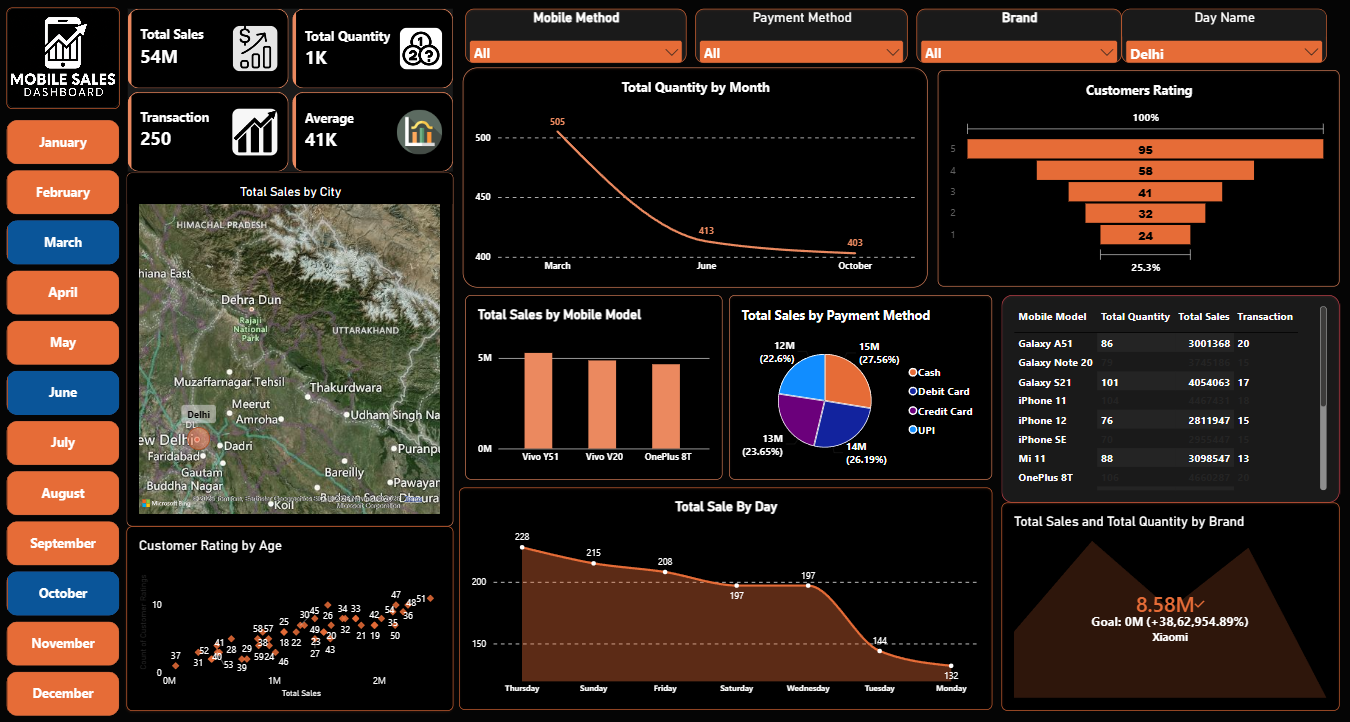

The page's visual inventory and layout, read from the dashboard file:
{"tool":"powerbi","page":{"name":"Page 1","canvas":[1920,1080],"ordinal":0},"visuals":[{"type":"image","box":[10.9,10.9,153.8,137.5],"z":0},{"type":"advancedSlicerVisual","fields":{"Values":["Sheet1.Date.Variation.Date Hierarchy.Month"]},"box":[10.9,162.9,153.3,815],"z":1000},{"type":"cardVisual","fields":{"Data":["Sheet1.Total Sales","Sheet1.Total Quantity","Sheet1.Transaction","Sheet1.Average"]},"box":[174.3,11.4,442.9,222.9],"z":2000},{"type":"map","fields":{"Category":["Sheet1.City"],"Size":["Sheet1.Total Sales"]},"box":[173.3,233.3,443.3,480],"z":3000},{"type":"lineChart","fields":{"Category":["Sheet1.Date.Variation.Date Hierarchy.Month","Sheet1.Date.Variation.Date Hierarchy.Day"],"Y":["Sheet1.Total Quantity"]},"box":[628.3,91.7,630,298.6],"z":4000},{"type":"clusteredColumnChart","fields":{"Category":["Sheet1.Mobile Model"],"Y":["Sheet1.Total Sales"]},"box":[631.7,400,348.6,250],"z":5000},{"type":"pieChart","fields":{"Category":["Sheet1.Payment Method"],"Y":["Sheet1.Total Sales"]},"box":[990,400,357.1,250],"z":6000},{"type":"funnel","title":"Customers Rating","fields":{"Category":["Sheet1.Customer Ratings"],"Y":["CountNonNull(Sheet1.Customer Ratings)"]},"box":[1273.3,95,545,293.3],"z":7000},{"type":"areaChart","title":"Total Sale By Day","fields":{"Category":["Sheet1.Day Name"],"Y":["Sheet1.Total Quantity"]},"box":[623.3,661.7,723.3,301.7],"z":8000},{"type":"tableEx","fields":{"Values":["Sheet1.Mobile Model","Sheet1.Total Quantity","Sheet1.Total Sales","Sheet1.Transaction"]},"box":[1360,400,458.3,281.7],"z":9000},{"type":"slicer","title":"Mobile Method","fields":{"Values":["Sheet1.Mobile Model"]},"box":[631.7,11.7,300,73.3],"z":10000},{"type":"slicer","title":"Payment Method","fields":{"Values":["Sheet1.Payment Method"]},"box":[943.3,11.7,288.3,73.3],"z":11000},{"type":"slicer","title":"Brand","fields":{"Values":["Sheet1.Brand"]},"box":[1243.3,11.7,278.3,73.3],"z":12000},{"type":"slicer","title":"Day Name","fields":{"Values":["Sheet1.City"]},"box":[1521.7,11.7,278.3,73.3],"z":13000},{"type":"kpi","fields":{"Goal":["Sheet1.Total Quantity"],"Indicator":["Sheet1.Total Sales"],"TrendLine":["Sheet1.Brand"]},"box":[1360,682,458,282],"z":13001},{"type":"scatterChart","title":"Customer Rating by Age ","fields":{"Category":["Sheet1.Customer Age"],"X":["Sheet1.Total Sales"],"Y":["CountNonNull(Sheet1.Customer Ratings)"]},"box":[173,713,443,250],"z":13002}]}

Visuals, with their boxes on the page's 1920x1080 design canvas (x1, y1, x2, y2). These are canvas units, not pixel positions in the 1350x722 screenshot, which may show the page scaled, cropped or inside an application window:
image: 11:11:165:148
advancedSlicerVisual - Sheet1.Date.Variation.Date Hierarchy.Month: 11:163:164:978
cardVisual - Sheet1.Total Sales x Sheet1.Total Quantity: 174:11:617:234
map - Sheet1.City x Sheet1.Total Sales: 173:233:617:713
lineChart - Sheet1.Date.Variation.Date Hierarchy.Month x Sheet1.Date.Variation.Date Hierarchy.Day: 628:92:1258:390
clusteredColumnChart - Sheet1.Mobile Model x Sheet1.Total Sales: 632:400:980:650
pieChart - Sheet1.Payment Method x Sheet1.Total Sales: 990:400:1347:650
"Customers Rating" funnel: 1273:95:1818:388
"Total Sale By Day" areaChart: 623:662:1347:963
tableEx - Sheet1.Mobile Model x Sheet1.Total Quantity: 1360:400:1818:682
"Mobile Method" slicer: 632:12:932:85
"Payment Method" slicer: 943:12:1232:85
"Brand" slicer: 1243:12:1522:85
"Day Name" slicer: 1522:12:1800:85
kpi - Sheet1.Total Quantity x Sheet1.Total Sales: 1360:682:1818:964
"Customer Rating by Age " scatterChart: 173:713:616:963
